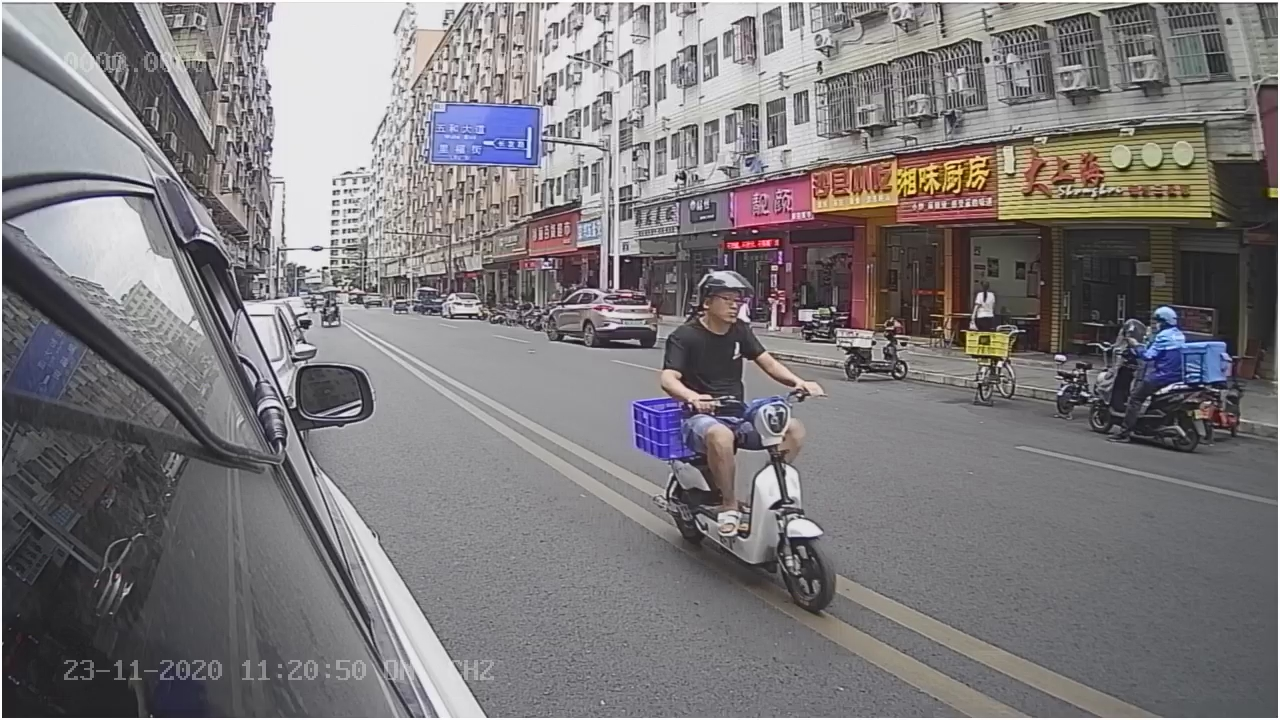person: (655, 263, 821, 399)
